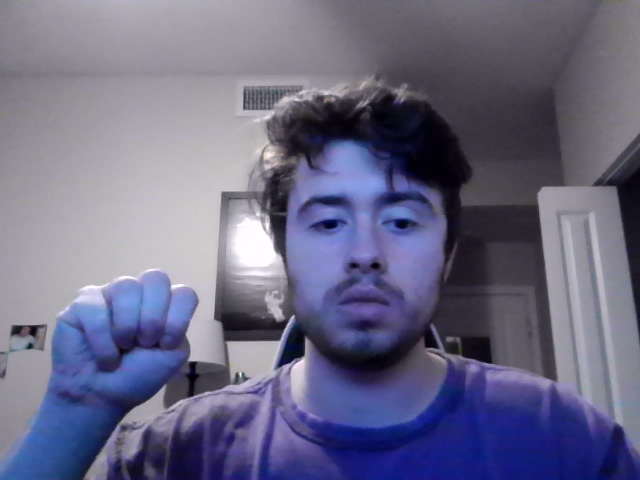m: (51, 268, 199, 428)
